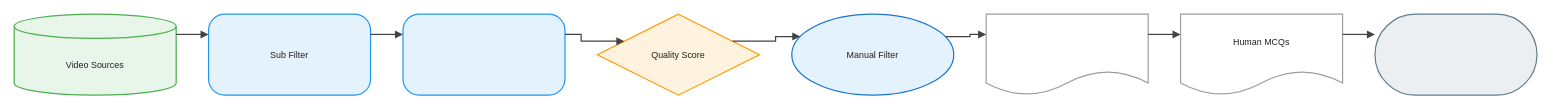
The diagram is 1552 pixels wide and 110 high, and some of its shapes have lost their labels. The centre of each missing label's shape, as x and y in pixels:
"Accuracy" belongs at (x=1455, y=54).
"Ref Queries" belongs at (x=1066, y=54).
"Whisper Subs" belongs at (x=483, y=54).
